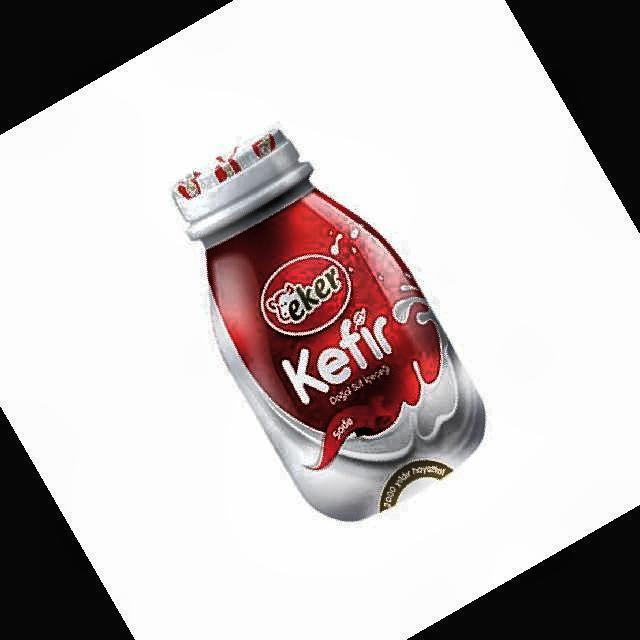plastic: (174, 129, 484, 519)
